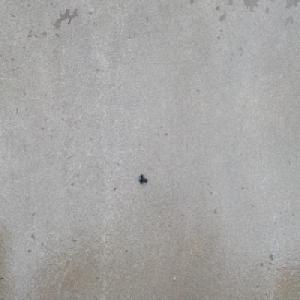BoltWasher: (138, 173, 147, 184)
